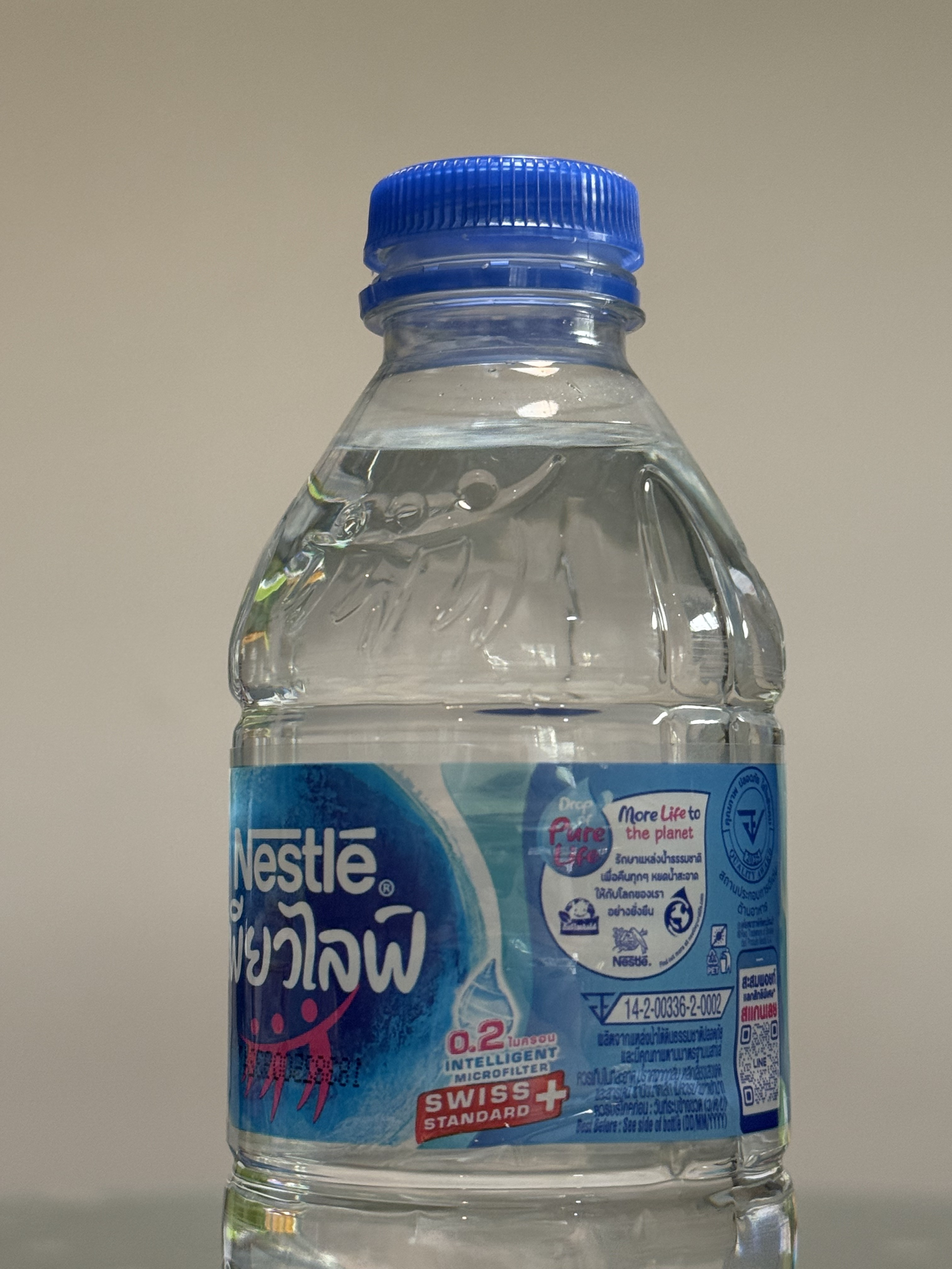half_cap: (353, 148, 650, 331)
